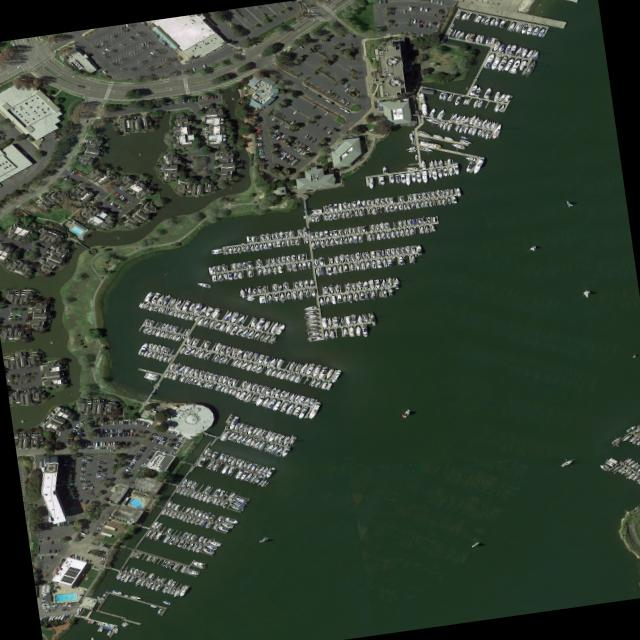large-vehicle: (78, 532, 85, 536)
ship: (306, 402, 321, 420), (470, 157, 484, 175), (490, 123, 503, 140), (482, 53, 495, 69), (523, 61, 536, 77), (418, 141, 441, 149), (508, 60, 521, 74), (495, 57, 508, 71), (489, 55, 501, 70), (329, 370, 341, 383), (136, 342, 148, 355), (274, 324, 286, 336), (267, 322, 279, 334), (316, 367, 328, 379), (502, 59, 514, 71), (227, 417, 238, 430), (254, 318, 265, 330), (298, 362, 309, 374), (310, 365, 321, 377), (235, 314, 246, 326), (142, 291, 153, 303), (297, 407, 308, 419), (463, 161, 474, 173), (219, 430, 230, 442), (264, 467, 275, 479), (178, 586, 190, 597), (224, 413, 236, 424), (579, 289, 592, 299), (399, 409, 412, 419), (195, 281, 211, 289), (142, 373, 158, 381), (559, 459, 573, 468), (304, 364, 315, 375), (210, 308, 221, 319), (323, 369, 334, 380), (154, 294, 165, 305), (148, 293, 159, 304), (280, 446, 291, 457), (262, 430, 273, 441), (271, 400, 282, 411), (467, 85, 478, 96), (257, 429, 269, 439), (609, 436, 622, 445), (420, 171, 428, 185), (423, 118, 439, 125), (449, 143, 465, 150), (191, 562, 207, 569), (223, 518, 239, 525), (261, 321, 271, 332), (248, 318, 259, 328), (229, 312, 239, 323), (223, 311, 233, 322), (203, 307, 214, 317), (179, 300, 189, 311), (160, 295, 170, 306), (284, 403, 294, 414), (278, 402, 288, 413), (242, 392, 252, 403), (481, 88, 491, 99), (491, 41, 501, 52), (517, 60, 527, 71), (597, 464, 609, 473), (227, 505, 242, 512), (219, 522, 234, 529), (222, 324, 232, 334), (192, 304, 202, 314), (167, 298, 177, 308), (287, 436, 297, 446), (266, 399, 276, 409), (260, 397, 270, 407), (254, 396, 264, 406), (491, 92, 501, 102), (210, 462, 220, 472), (435, 109, 444, 120), (152, 532, 163, 541), (369, 312, 376, 326), (185, 569, 199, 576), (452, 163, 459, 176), (239, 329, 249, 338), (228, 326, 238, 335), (198, 306, 207, 316), (173, 300, 183, 309), (281, 436, 290, 446), (275, 435, 285, 444), (271, 434, 281, 443), (267, 433, 277, 442), (236, 423, 245, 433), (176, 364, 186, 373), (249, 394, 258, 404), (471, 116, 480, 126), (479, 118, 488, 128), (472, 87, 481, 97), (452, 96, 461, 106), (416, 131, 431, 137), (418, 147, 433, 153), (502, 44, 511, 54), (496, 44, 505, 54), (513, 47, 522, 57), (536, 27, 545, 37), (530, 26, 539, 36), (525, 25, 534, 35), (525, 49, 534, 59), (416, 137, 431, 143), (206, 460, 215, 470), (196, 458, 206, 467), (233, 497, 248, 503), (220, 465, 229, 475), (234, 470, 244, 479), (238, 471, 248, 480), (243, 473, 253, 482), (306, 331, 320, 337), (307, 336, 321, 342), (361, 325, 368, 337), (420, 103, 427, 115), (231, 501, 245, 507), (207, 541, 221, 547), (216, 526, 230, 532), (607, 458, 619, 465), (263, 334, 272, 343), (292, 363, 301, 372), (286, 362, 295, 371), (274, 359, 283, 368), (256, 355, 265, 364), (250, 353, 259, 362), (201, 340, 210, 349), (217, 323, 226, 332), (206, 320, 215, 329), (196, 317, 205, 326), (252, 440, 261, 449), (256, 441, 265, 450), (254, 428, 263, 437), (269, 445, 278, 454), (245, 426, 254, 435), (241, 424, 250, 433), (232, 422, 241, 431), (244, 437, 253, 446), (239, 436, 248, 445), (230, 433, 239, 442), (278, 371, 287, 380), (172, 363, 181, 372), (291, 406, 300, 415), (237, 391, 246, 400), (449, 113, 458, 122), (519, 25, 528, 34), (225, 467, 234, 476), (227, 492, 236, 501), (212, 488, 221, 497), (203, 485, 212, 494), (179, 478, 188, 487), (256, 466, 265, 475), (253, 475, 262, 484), (248, 475, 257, 484), (275, 447, 283, 457), (468, 115, 476, 125), (508, 45, 516, 55), (619, 468, 629, 476), (305, 322, 318, 328), (404, 173, 410, 186), (110, 590, 123, 596), (204, 545, 217, 551), (418, 93, 425, 104), (622, 458, 633, 465), (302, 306, 317, 311), (257, 295, 265, 304), (269, 336, 277, 345), (257, 333, 265, 342), (267, 358, 276, 366), (262, 356, 270, 365), (234, 349, 243, 357), (223, 346, 231, 355), (218, 345, 226, 354), (212, 343, 220, 352), (189, 338, 197, 347), (234, 328, 243, 336), (246, 330, 254, 339), (212, 322, 221, 330), (201, 319, 209, 328), (210, 249, 222, 255), (184, 336, 192, 345), (248, 439, 257, 447), (187, 303, 195, 312), (265, 444, 274, 452), (250, 427, 258, 436), (313, 380, 322, 388), (235, 434, 243, 443), (206, 372, 214, 381), (263, 387, 272, 395), (258, 386, 267, 394), (254, 384, 262, 393), (292, 375, 301, 383), (216, 355, 224, 364), (182, 366, 190, 375), (220, 376, 229, 384), (483, 131, 491, 140), (457, 125, 465, 134), (492, 104, 500, 113), (471, 99, 479, 108), (427, 108, 435, 117), (440, 122, 448, 131), (415, 172, 421, 184), (367, 178, 373, 190), (513, 23, 521, 32), (507, 22, 515, 31), (482, 17, 490, 26), (532, 51, 540, 60), (401, 167, 419, 171), (226, 432, 235, 440), (122, 575, 131, 583), (181, 541, 190, 549), (176, 540, 185, 548), (202, 549, 214, 555), (189, 481, 198, 489), (184, 480, 193, 488), (236, 460, 245, 468), (201, 448, 210, 456), (203, 512, 212, 520), (564, 200, 573, 208), (304, 314, 318, 319), (278, 293, 285, 303), (238, 289, 245, 299), (207, 266, 214, 276), (458, 140, 472, 145), (604, 460, 614, 467), (527, 245, 537, 252), (350, 314, 356, 325), (320, 318, 326, 329), (341, 327, 347, 338), (443, 136, 454, 142), (431, 171, 437, 182), (415, 245, 421, 256), (310, 209, 321, 215), (304, 310, 317, 315), (305, 318, 318, 323), (306, 327, 319, 332), (463, 157, 476, 162), (394, 277, 399, 290), (128, 595, 141, 600), (252, 332, 260, 340), (245, 352, 253, 360), (229, 348, 237, 356), (201, 371, 209, 379), (196, 370, 204, 378), (191, 369, 199, 377), (183, 347, 191, 355), (297, 396, 305, 404), (292, 395, 300, 403), (287, 393, 295, 401), (282, 392, 290, 400), (268, 388, 276, 396), (197, 351, 205, 359), (288, 374, 296, 382), (283, 372, 291, 380), (269, 369, 277, 377), (254, 366, 262, 374), (212, 354, 220, 362), (245, 363, 253, 371), (240, 362, 248, 370), (236, 360, 244, 368), (221, 356, 229, 364), (244, 382, 252, 390), (239, 381, 247, 389), (230, 379, 238, 387), (186, 368, 194, 376), (225, 377, 233, 385), (216, 375, 224, 383), (210, 374, 218, 382), (437, 121, 445, 129), (484, 121, 492, 129), (488, 122, 496, 130), (465, 127, 473, 135), (458, 116, 466, 124), (453, 115, 461, 123), (436, 92, 444, 100), (497, 94, 505, 102), (519, 49, 527, 57), (497, 20, 505, 28), (134, 579, 142, 587), (180, 532, 188, 540), (190, 544, 198, 552), (186, 543, 194, 551), (162, 536, 170, 544), (148, 532, 156, 540), (144, 530, 152, 538), (627, 472, 635, 480), (192, 535, 200, 543), (253, 465, 261, 473), (241, 461, 249, 469), (221, 455, 229, 463), (217, 453, 225, 461), (209, 451, 217, 459), (205, 450, 213, 458), (204, 496, 212, 504), (290, 291, 297, 300), (479, 130, 486, 139), (453, 30, 460, 39), (473, 34, 480, 43), (468, 33, 475, 42), (260, 468, 269, 475), (168, 537, 175, 546), (617, 466, 626, 473), (165, 579, 174, 586), (629, 462, 638, 469), (626, 460, 635, 467), (195, 511, 204, 518), (344, 316, 350, 326), (354, 326, 360, 336), (348, 327, 354, 337), (436, 169, 442, 179), (378, 176, 384, 186), (370, 290, 376, 300), (409, 254, 415, 264), (241, 351, 248, 359), (319, 382, 327, 389), (187, 349, 195, 356), (178, 346, 185, 354), (308, 398, 315, 406), (302, 398, 310, 405), (277, 391, 285, 398), (192, 350, 200, 357), (202, 352, 209, 360), (265, 368, 272, 376), (250, 364, 257, 372), (233, 391, 241, 398), (462, 117, 470, 124), (476, 119, 483, 127), (445, 124, 452, 132), (476, 100, 483, 108), (445, 94, 452, 102), (441, 94, 448, 102), (488, 38, 495, 46), (483, 37, 490, 45), (478, 36, 485, 44), (488, 18, 495, 26), (493, 19, 500, 27), (473, 16, 481, 23), (172, 591, 180, 598), (154, 584, 161, 592), (118, 574, 126, 581), (184, 533, 192, 540), (172, 539, 180, 546), (196, 536, 203, 544), (217, 491, 225, 498), (221, 502, 229, 509), (229, 458, 236, 466), (249, 464, 257, 471), (245, 463, 253, 470), (225, 457, 233, 464), (200, 495, 208, 502), (192, 519, 200, 526), (166, 501, 173, 509), (183, 507, 191, 514), (200, 511, 207, 519), (332, 316, 337, 327), (410, 172, 415, 183), (399, 174, 404, 185), (266, 295, 272, 304), (308, 279, 314, 288), (297, 291, 303, 300), (226, 272, 232, 281), (324, 296, 330, 305), (362, 314, 368, 323), (356, 315, 362, 324), (291, 263, 297, 272), (441, 168, 447, 177), (394, 175, 400, 184), (432, 159, 438, 168), (458, 31, 464, 40), (455, 188, 461, 197), (328, 285, 334, 294), (322, 286, 328, 295), (358, 292, 364, 301), (397, 256, 403, 265), (386, 258, 392, 267), (630, 475, 639, 481), (120, 622, 129, 628), (273, 293, 278, 303), (304, 289, 309, 299), (323, 330, 328, 340), (330, 295, 335, 305), (329, 329, 334, 339), (336, 294, 341, 304), (432, 134, 442, 139), (420, 160, 425, 170), (334, 284, 339, 294), (356, 281, 361, 291), (326, 266, 331, 276), (325, 383, 332, 390), (142, 327, 149, 334), (154, 345, 161, 352), (146, 329, 153, 336), (154, 330, 161, 337), (166, 333, 173, 340), (162, 332, 169, 339), (273, 390, 280, 397), (249, 384, 256, 391), (309, 379, 316, 386), (274, 371, 281, 378), (231, 360, 238, 367), (178, 376, 185, 383), (168, 363, 175, 370), (222, 387, 229, 394), (230, 389, 237, 396), (498, 105, 505, 112), (503, 95, 510, 102), (463, 33, 470, 40), (464, 14, 471, 21), (459, 13, 466, 20), (454, 12, 461, 19), (164, 561, 171, 568), (161, 587, 168, 594), (146, 582, 153, 589), (139, 580, 146, 587), (127, 576, 134, 583), (172, 564, 179, 571), (180, 566, 187, 573), (188, 534, 195, 541), (195, 546, 202, 553), (147, 573, 154, 580), (145, 555, 152, 562), (201, 538, 208, 545), (218, 500, 225, 507), (214, 499, 221, 506), (234, 459, 241, 466), (211, 498, 218, 505), (181, 515, 188, 522), (204, 522, 211, 529), (170, 512, 177, 519), (197, 494, 204, 501), (193, 493, 200, 500), (189, 491, 196, 498), (178, 488, 185, 495), (216, 516, 223, 523), (188, 508, 195, 515), (296, 263, 302, 271), (276, 266, 282, 274), (261, 268, 267, 276), (236, 271, 242, 279), (231, 272, 237, 280), (470, 128, 476, 136), (462, 126, 468, 134), (428, 160, 434, 168), (479, 16, 485, 24), (310, 241, 316, 249), (404, 246, 410, 254), (418, 226, 424, 234), (403, 228, 409, 236), (344, 254, 350, 262), (333, 256, 339, 264), (380, 279, 386, 287), (381, 290, 387, 298), (624, 471, 632, 477), (169, 581, 177, 587), (185, 491, 193, 497), (272, 283, 277, 292), (310, 289, 315, 298), (339, 317, 344, 326), (326, 318, 331, 327), (341, 295, 346, 304), (347, 294, 352, 303), (447, 167, 452, 176), (366, 233, 371, 242), (356, 234, 361, 243), (368, 280, 373, 289), (345, 283, 350, 292), (364, 292, 369, 301), (315, 268, 320, 277), (318, 257, 323, 266), (381, 258, 386, 267), (376, 259, 381, 268), (360, 262, 365, 271), (337, 265, 342, 274), (210, 275, 216, 282), (216, 274, 222, 281), (231, 247, 237, 254), (222, 248, 228, 255), (146, 344, 153, 350), (161, 356, 168, 362), (157, 355, 164, 361), (162, 324, 169, 330), (151, 306, 158, 312), (144, 304, 150, 311), (183, 329, 190, 335), (143, 319, 149, 326), (198, 381, 205, 387), (162, 372, 169, 378), (214, 385, 221, 391), (475, 130, 481, 137), (319, 240, 325, 247), (408, 228, 414, 235), (327, 205, 333, 212), (131, 569, 138, 575), (150, 584, 156, 591), (633, 464, 640, 470), (105, 630, 112, 636), (189, 518, 195, 525), (185, 517, 192, 523), (169, 504, 176, 510), (172, 505, 179, 511), (182, 490, 189, 496), (192, 510, 199, 516), (285, 292, 290, 300), (277, 284, 282, 292), (303, 280, 308, 288), (298, 281, 303, 289), (282, 282, 287, 290), (256, 286, 261, 294), (246, 287, 251, 295), (264, 233, 269, 241), (284, 239, 289, 247), (275, 240, 280, 248), (262, 242, 267, 250), (286, 264, 291, 272), (221, 264, 226, 272), (216, 265, 221, 273), (301, 262, 306, 270), (266, 267, 271, 275), (247, 270, 252, 278), (280, 256, 285, 264), (446, 158, 451, 166), (426, 171, 431, 179), (381, 166, 386, 174), (437, 159, 442, 167), (408, 133, 413, 141), (314, 240, 319, 248), (410, 246, 415, 254), (385, 249, 390, 257), (375, 250, 380, 258), (370, 251, 375, 259), (365, 252, 370, 260), (360, 252, 365, 260), (324, 239, 329, 247), (399, 229, 404, 237), (394, 230, 399, 238), (389, 231, 394, 239), (338, 237, 343, 245), (375, 233, 380, 241), (371, 233, 376, 241), (352, 235, 357, 243), (339, 255, 344, 263), (374, 280, 379, 288), (362, 282, 367, 290), (351, 283, 356, 291), (389, 287, 393, 297), (365, 261, 370, 269), (430, 224, 435, 232), (313, 231, 318, 239), (337, 203, 342, 211), (332, 204, 337, 212), (445, 197, 450, 205), (351, 201, 356, 209), (398, 195, 403, 203), (355, 200, 360, 208), (397, 220, 402, 228), (383, 222, 388, 230), (346, 227, 351, 235), (420, 217, 425, 225), (160, 601, 170, 605), (245, 297, 254, 301), (272, 266, 276, 275), (167, 310, 173, 316), (192, 316, 198, 322), (179, 313, 185, 319), (263, 444, 269, 450), (159, 308, 165, 314), (158, 346, 164, 352), (166, 357, 172, 363), (150, 353, 156, 359), (150, 329, 156, 335), (156, 307, 162, 313), (147, 305, 153, 311), (171, 326, 177, 332), (167, 325, 173, 331), (159, 323, 165, 329), (158, 332, 164, 338), (155, 322, 161, 328), (147, 320, 153, 326), (174, 336, 180, 342), (170, 334, 176, 340), (207, 383, 213, 389), (203, 382, 209, 388), (195, 380, 201, 386), (191, 379, 197, 385), (187, 378, 193, 384), (183, 377, 189, 383), (219, 386, 225, 392), (227, 388, 233, 394), (353, 293, 357, 302), (389, 175, 393, 184), (458, 136, 467, 140), (371, 260, 375, 269), (355, 262, 359, 271), (349, 263, 353, 272), (161, 561, 167, 567), (166, 588, 172, 594), (168, 563, 174, 569), (165, 528, 171, 534), (128, 568, 134, 574), (139, 572, 145, 578), (634, 477, 640, 483), (156, 608, 162, 614), (212, 524, 218, 530), (201, 521, 207, 527), (197, 520, 203, 526), (167, 511, 173, 517), (164, 510, 170, 516), (160, 509, 166, 515), (175, 488, 181, 494), (208, 514, 214, 520), (62, 615, 68, 621), (251, 288, 256, 295), (222, 273, 227, 280), (278, 232, 283, 239), (269, 233, 274, 240), (260, 234, 265, 241), (255, 235, 260, 242), (250, 236, 255, 243), (289, 239, 294, 246), (279, 240, 284, 247), (266, 242, 271, 249), (256, 269, 261, 276), (236, 263, 241, 270), (246, 261, 251, 268), (244, 245, 249, 252), (240, 246, 245, 253), (290, 255, 295, 262), (271, 258, 276, 265), (171, 374, 176, 381), (454, 125, 459, 132), (462, 98, 467, 105), (449, 189, 454, 196), (349, 254, 354, 261), (385, 232, 390, 239), (380, 232, 385, 239), (320, 268, 325, 275), (343, 265, 348, 272), (444, 189, 449, 196), (318, 231, 323, 238), (451, 197, 456, 204), (435, 190, 440, 197), (379, 198, 384, 205), (365, 200, 370, 207), (374, 224, 379, 231), (411, 219, 416, 226), (323, 231, 328, 238), (340, 212, 345, 219), (375, 207, 380, 214), (371, 208, 376, 215), (344, 211, 349, 218), (331, 213, 336, 220), (327, 214, 332, 221), (293, 281, 297, 289), (288, 230, 292, 238), (319, 298, 323, 306), (306, 261, 310, 269), (254, 244, 258, 252), (256, 259, 260, 267), (407, 149, 415, 153), (310, 232, 314, 240), (400, 247, 404, 255), (395, 248, 399, 256), (390, 248, 394, 256), (355, 253, 359, 261), (329, 238, 333, 246), (334, 238, 338, 246), (348, 236, 352, 244), (343, 237, 347, 245), (387, 278, 391, 286), (313, 258, 317, 266), (332, 266, 336, 274), (441, 198, 445, 206), (415, 201, 419, 209), (342, 202, 346, 210), (407, 194, 411, 202), (412, 193, 416, 201), (375, 198, 379, 206), (407, 219, 411, 227), (236, 247, 241, 253), (227, 248, 232, 254), (188, 315, 193, 321), (183, 315, 189, 320), (176, 312, 181, 318), (164, 309, 169, 315), (162, 348, 168, 353), (150, 345, 156, 350), (154, 354, 159, 360), (167, 373, 172, 379), (464, 99, 469, 105), (346, 203, 351, 209), (440, 191, 445, 197), (421, 193, 426, 199), (392, 205, 397, 211), (332, 230, 337, 236), (349, 211, 354, 217), (169, 590, 175, 595), (144, 581, 149, 587), (135, 571, 141, 576), (158, 578, 164, 583), (113, 628, 118, 634), (178, 515, 184, 520), (50, 615, 55, 621), (47, 616, 53, 621), (262, 286, 266, 293), (283, 231, 287, 238), (274, 232, 278, 239), (245, 236, 249, 243), (294, 239, 298, 246), (271, 241, 275, 248), (297, 229, 301, 236), (302, 228, 306, 235), (258, 243, 262, 250), (231, 263, 235, 270), (241, 262, 245, 269), (249, 245, 253, 252), (286, 256, 290, 263), (276, 257, 280, 264), (380, 250, 384, 257), (424, 226, 428, 233), (377, 291, 381, 298), (329, 257, 333, 264), (428, 200, 432, 207), (410, 202, 414, 209), (406, 203, 410, 210), (431, 191, 435, 198), (426, 192, 430, 199), (417, 193, 421, 200), (384, 197, 388, 204), (370, 199, 374, 206), (361, 200, 365, 207), (397, 204, 401, 211), (388, 205, 392, 212), (361, 226, 365, 233), (402, 220, 406, 227), (379, 223, 383, 230), (370, 224, 374, 231), (356, 226, 360, 233), (351, 227, 355, 234), (337, 229, 341, 236), (328, 230, 332, 237), (417, 218, 421, 225), (384, 206, 388, 213), (367, 208, 371, 215), (358, 210, 362, 217), (354, 210, 358, 217), (323, 214, 327, 221), (314, 215, 318, 222), (310, 216, 314, 223), (426, 217, 430, 224), (149, 605, 156, 609), (172, 312, 177, 317), (151, 557, 156, 562), (635, 468, 640, 473), (156, 577, 161, 582), (175, 514, 180, 519), (56, 615, 61, 620), (53, 616, 58, 621), (300, 254, 304, 260), (296, 255, 300, 261), (266, 259, 270, 265), (324, 205, 327, 213), (432, 200, 436, 206), (423, 201, 427, 207), (419, 202, 423, 208), (401, 204, 405, 210), (393, 222, 397, 228), (342, 229, 346, 235), (336, 213, 340, 219), (431, 217, 435, 223), (304, 237, 307, 244), (407, 147, 414, 150), (437, 199, 440, 206), (389, 197, 392, 204), (82, 605, 87, 609), (631, 355, 636, 359), (414, 155, 417, 161), (61, 604, 67, 607), (85, 605, 89, 609), (78, 608, 82, 612), (75, 611, 79, 615), (443, 161, 446, 166), (42, 608, 47, 611), (61, 608, 66, 611), (40, 592, 45, 595), (410, 141, 413, 145), (95, 596, 99, 599), (42, 607, 46, 610), (44, 609, 48, 612), (42, 616, 46, 619), (44, 588, 50, 590), (44, 590, 50, 592), (41, 585, 45, 588), (40, 589, 44, 592), (637, 481, 640, 485), (86, 599, 91, 601), (40, 600, 45, 602), (41, 594, 46, 596), (40, 605, 45, 607), (40, 603, 45, 605), (51, 606, 56, 608), (45, 585, 50, 587), (45, 587, 50, 589), (44, 591, 49, 593), (101, 595, 105, 597), (46, 607, 50, 609), (46, 605, 50, 607), (41, 606, 45, 608), (67, 605, 71, 607), (41, 602, 45, 604), (41, 587, 45, 589), (41, 588, 45, 590), (40, 591, 44, 593), (40, 598, 44, 599)
small-vehicle: (309, 139, 316, 144), (117, 195, 123, 200), (109, 201, 114, 206), (159, 39, 164, 44), (162, 437, 167, 442), (83, 500, 88, 505), (274, 164, 279, 169), (113, 193, 119, 197), (119, 197, 125, 201), (121, 198, 127, 202), (115, 194, 121, 198), (113, 205, 119, 209), (85, 549, 91, 553), (101, 553, 107, 557), (15, 65, 21, 69), (138, 448, 144, 452), (176, 435, 182, 439), (175, 434, 181, 438), (298, 151, 304, 155), (306, 137, 312, 141), (291, 111, 297, 115), (313, 123, 319, 127), (269, 117, 275, 121), (279, 156, 285, 160), (274, 136, 280, 140), (278, 138, 284, 142), (284, 136, 290, 140), (137, 451, 144, 454), (134, 454, 141, 457), (85, 484, 92, 487), (138, 430, 142, 435), (142, 423, 147, 427), (140, 422, 144, 427), (132, 433, 137, 437), (145, 423, 150, 427), (151, 434, 156, 438), (70, 429, 75, 433), (143, 22, 147, 27), (112, 185, 117, 189), (118, 187, 123, 191), (112, 192, 117, 196), (210, 95, 214, 100), (104, 198, 109, 202), (112, 203, 117, 207), (10, 374, 14, 379), (14, 196, 19, 200), (15, 204, 20, 208), (105, 545, 110, 549), (159, 441, 164, 445), (148, 437, 153, 441), (141, 462, 146, 466), (172, 432, 177, 436), (126, 466, 131, 470), (150, 438, 155, 442), (88, 492, 93, 496), (101, 476, 106, 480), (282, 152, 287, 156), (285, 154, 290, 158), (288, 155, 293, 159), (293, 95, 298, 99), (321, 127, 326, 131), (280, 116, 285, 120), (296, 149, 301, 153), (306, 147, 311, 151), (273, 130, 278, 134), (271, 134, 276, 138), (283, 158, 288, 162), (278, 150, 283, 154), (280, 168, 285, 172), (281, 157, 286, 161), (284, 153, 289, 157), (301, 145, 306, 149), (303, 146, 308, 150), (294, 141, 299, 145), (291, 146, 296, 150), (301, 152, 306, 156), (277, 132, 282, 136), (276, 154, 281, 158), (273, 135, 278, 139), (273, 147, 278, 151), (311, 105, 316, 109), (128, 36, 134, 39), (132, 33, 138, 36), (77, 422, 83, 425), (75, 423, 81, 426), (122, 200, 128, 203), (100, 52, 106, 55), (148, 52, 154, 55), (99, 557, 105, 560), (92, 532, 98, 535), (75, 538, 81, 541), (104, 514, 110, 517), (65, 497, 71, 500), (147, 455, 153, 458), (140, 447, 146, 450), (69, 507, 75, 510), (133, 456, 139, 459), (132, 458, 138, 461), (82, 488, 88, 491), (128, 464, 134, 467), (124, 469, 130, 472), (123, 471, 129, 474), (282, 125, 288, 128), (285, 160, 291, 163), (254, 127, 260, 130), (135, 430, 139, 434), (131, 429, 135, 433), (123, 433, 127, 437), (114, 429, 118, 433), (153, 435, 157, 439), (156, 436, 160, 440), (106, 442, 110, 446), (154, 34, 158, 38), (71, 170, 75, 174), (161, 41, 165, 45), (0, 231, 4, 235), (160, 437, 164, 441), (157, 441, 161, 445), (101, 543, 105, 547), (146, 26, 150, 30), (164, 443, 168, 447), (162, 442, 166, 446), (155, 440, 159, 444), (170, 431, 174, 435), (153, 439, 157, 443), (90, 493, 94, 497), (78, 499, 82, 503), (290, 162, 294, 166), (293, 147, 297, 151), (295, 148, 299, 152), (201, 65, 205, 69), (279, 121, 283, 125), (279, 133, 283, 137), (274, 119, 278, 123), (99, 429, 102, 434), (96, 429, 99, 434), (100, 473, 105, 476), (81, 483, 86, 486), (81, 487, 86, 490), (74, 425, 79, 428), (72, 428, 77, 431), (94, 442, 97, 447), (125, 201, 130, 204), (104, 49, 109, 52), (78, 430, 83, 433), (76, 172, 81, 175), (103, 545, 108, 548), (82, 528, 87, 531), (83, 526, 88, 529), (99, 560, 104, 563), (96, 527, 101, 530), (77, 536, 82, 539), (69, 465, 74, 468), (169, 451, 174, 454), (149, 453, 154, 456), (146, 456, 151, 459), (145, 458, 150, 461), (176, 442, 181, 445), (177, 440, 182, 443), (170, 450, 175, 453), (72, 497, 77, 500), (130, 461, 135, 464), (129, 463, 134, 466), (201, 168, 206, 171), (256, 137, 261, 140), (259, 154, 264, 157), (280, 152, 285, 155), (289, 157, 294, 160), (292, 159, 297, 162), (297, 144, 302, 147), (280, 135, 285, 138), (287, 161, 292, 164), (283, 177, 288, 180), (254, 125, 259, 128), (288, 145, 293, 148), (275, 132, 280, 135), (276, 138, 281, 141), (281, 140, 286, 143), (316, 95, 321, 98), (302, 87, 307, 90), (117, 429, 120, 433), (109, 433, 112, 437), (101, 434, 104, 438), (98, 434, 101, 438), (89, 442, 92, 446), (112, 429, 115, 433), (104, 430, 107, 434), (107, 429, 110, 433), (109, 429, 112, 433), (112, 433, 115, 437), (123, 421, 126, 425), (134, 421, 137, 425), (119, 433, 122, 437), (127, 429, 130, 433), (122, 429, 125, 433), (126, 433, 129, 437), (121, 433, 124, 437), (119, 429, 122, 433), (80, 459, 86, 461), (79, 471, 85, 473), (78, 478, 84, 480), (85, 457, 91, 459), (72, 439, 78, 441), (99, 442, 102, 446), (108, 450, 114, 452), (100, 43, 103, 47), (122, 26, 125, 30), (125, 24, 128, 28), (151, 51, 157, 53), (186, 98, 189, 102), (213, 95, 216, 99), (200, 97, 203, 101), (170, 101, 173, 105), (158, 38, 162, 41), (143, 42, 146, 46), (23, 373, 26, 377), (26, 373, 29, 377), (28, 372, 31, 376), (6, 378, 9, 382), (65, 443, 71, 445), (84, 442, 87, 446), (100, 422, 103, 426), (16, 374, 19, 378), (15, 312, 21, 314), (99, 562, 103, 565), (85, 532, 89, 535), (74, 555, 77, 559), (61, 464, 67, 466), (256, 141, 262, 143), (330, 128, 334, 131), (161, 451, 165, 454), (167, 439, 171, 442), (136, 453, 142, 455), (172, 448, 176, 451), (139, 465, 145, 467), (66, 521, 69, 525), (84, 474, 90, 476), (50, 541, 53, 545), (48, 550, 51, 554), (53, 549, 56, 553), (131, 460, 137, 462), (119, 442, 122, 446), (117, 442, 120, 446), (201, 167, 207, 169), (330, 102, 334, 105), (257, 146, 263, 148), (258, 156, 264, 158), (291, 158, 295, 161), (252, 117, 258, 119), (202, 157, 208, 159), (202, 161, 208, 163), (278, 155, 282, 158), (100, 447, 105, 449), (105, 447, 110, 449), (201, 170, 206, 172), (96, 467, 101, 469), (95, 474, 100, 476), (95, 476, 100, 478), (85, 461, 90, 463), (80, 468, 85, 470), (79, 473, 84, 475), (79, 476, 84, 478), (96, 463, 101, 465), (96, 461, 101, 463), (73, 427, 78, 429), (94, 448, 99, 450), (113, 462, 118, 464), (190, 166, 195, 168), (190, 167, 195, 169), (204, 126, 209, 128), (54, 441, 59, 443), (79, 429, 84, 431), (15, 318, 20, 320), (66, 439, 71, 441), (66, 441, 71, 443), (7, 318, 12, 320), (41, 257, 46, 259), (25, 250, 30, 252), (15, 314, 20, 316), (8, 314, 13, 316), (100, 556, 105, 558), (95, 529, 100, 531), (69, 462, 74, 464), (69, 464, 74, 466), (63, 460, 68, 462), (63, 458, 68, 460), (60, 481, 65, 483), (150, 452, 155, 454), (175, 444, 180, 446), (174, 445, 179, 447), (173, 447, 178, 449), (79, 481, 84, 483), (80, 466, 85, 468), (96, 466, 101, 468), (101, 470, 106, 472), (191, 158, 196, 160), (257, 142, 262, 144), (257, 144, 262, 146), (258, 148, 263, 150), (258, 149, 263, 151), (258, 151, 263, 153), (258, 153, 263, 155), (256, 133, 261, 135), (255, 131, 260, 133), (253, 119, 258, 121), (106, 434, 109, 437), (114, 433, 117, 436), (116, 433, 119, 436), (125, 421, 128, 424), (136, 421, 139, 424), (91, 443, 94, 446), (111, 422, 114, 425), (146, 45, 149, 48), (93, 422, 96, 425), (158, 437, 161, 440), (85, 560, 88, 563), (79, 557, 82, 560), (58, 522, 61, 525), (39, 556, 42, 559), (114, 442, 117, 445), (191, 68, 194, 71), (104, 433, 106, 437), (120, 421, 122, 425), (128, 421, 130, 425), (125, 429, 127, 433), (102, 442, 104, 446), (110, 442, 112, 446), (112, 442, 114, 446), (118, 421, 120, 425), (109, 421, 111, 425), (182, 100, 184, 104), (141, 43, 143, 47), (105, 422, 107, 426), (9, 312, 13, 314), (69, 521, 71, 525), (64, 521, 66, 525), (50, 555, 52, 559), (44, 523, 46, 527), (81, 457, 85, 459), (85, 481, 89, 483), (81, 463, 85, 465), (125, 442, 127, 446), (120, 447, 124, 449), (128, 442, 130, 446), (202, 165, 206, 167), (116, 422, 118, 425), (88, 560, 90, 563), (61, 522, 63, 525), (77, 557, 79, 560), (46, 537, 48, 540), (87, 448, 92, 449), (101, 463, 106, 464), (204, 129, 209, 130), (8, 316, 13, 317), (86, 460, 91, 461), (80, 465, 85, 466), (113, 461, 118, 462), (101, 469, 106, 470), (89, 422, 93, 423), (72, 555, 73, 559), (114, 459, 118, 460), (96, 471, 100, 472)
